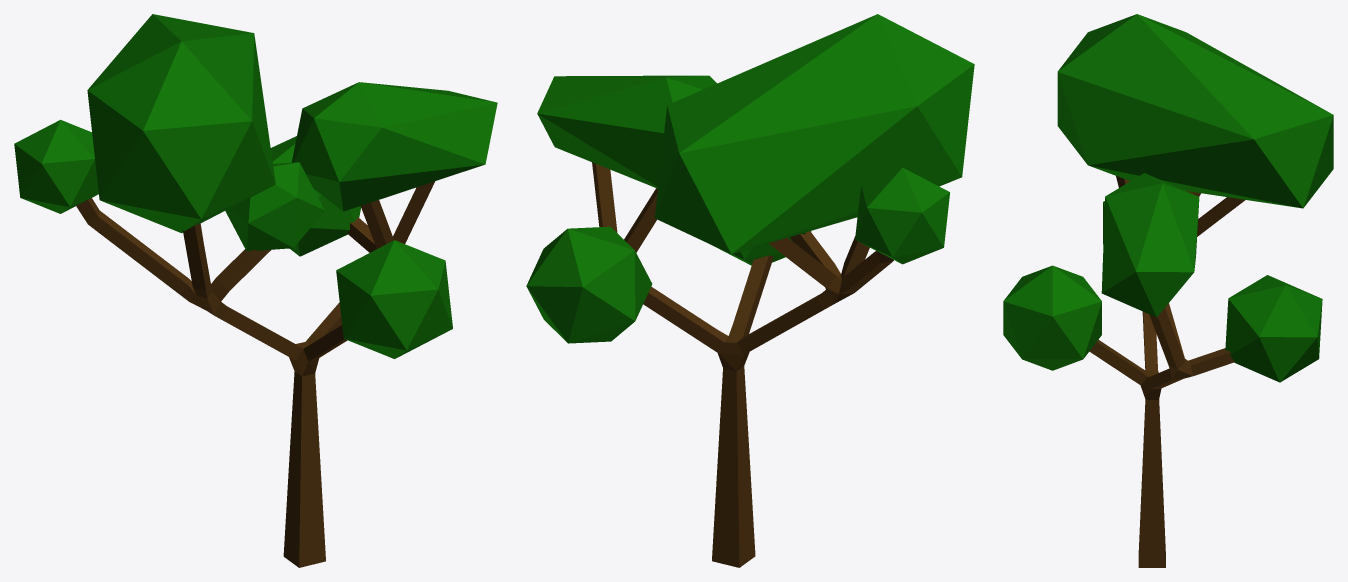
File: Arbol 3.glb
The picture shows the model from 3 angles, left to right: view 1: azimuth 30°, elevation 25°; view 2: azimuth 150°, elevation 25°; view 3: azimuth 270°, elevation 25°; orthographic projection. The views are drawn at different scales.
Visible parts, largest first — view 1: Plane; view 2: Plane; view 3: Plane.
Boxes of the visible parts, x1,y1,x2,y2 form: Plane: [14, 14, 497, 567]; Plane: [526, 14, 974, 567]; Plane: [1003, 14, 1333, 567].
Bounding box in the file's own units: 4.05 × 5.02 × 3.06.
